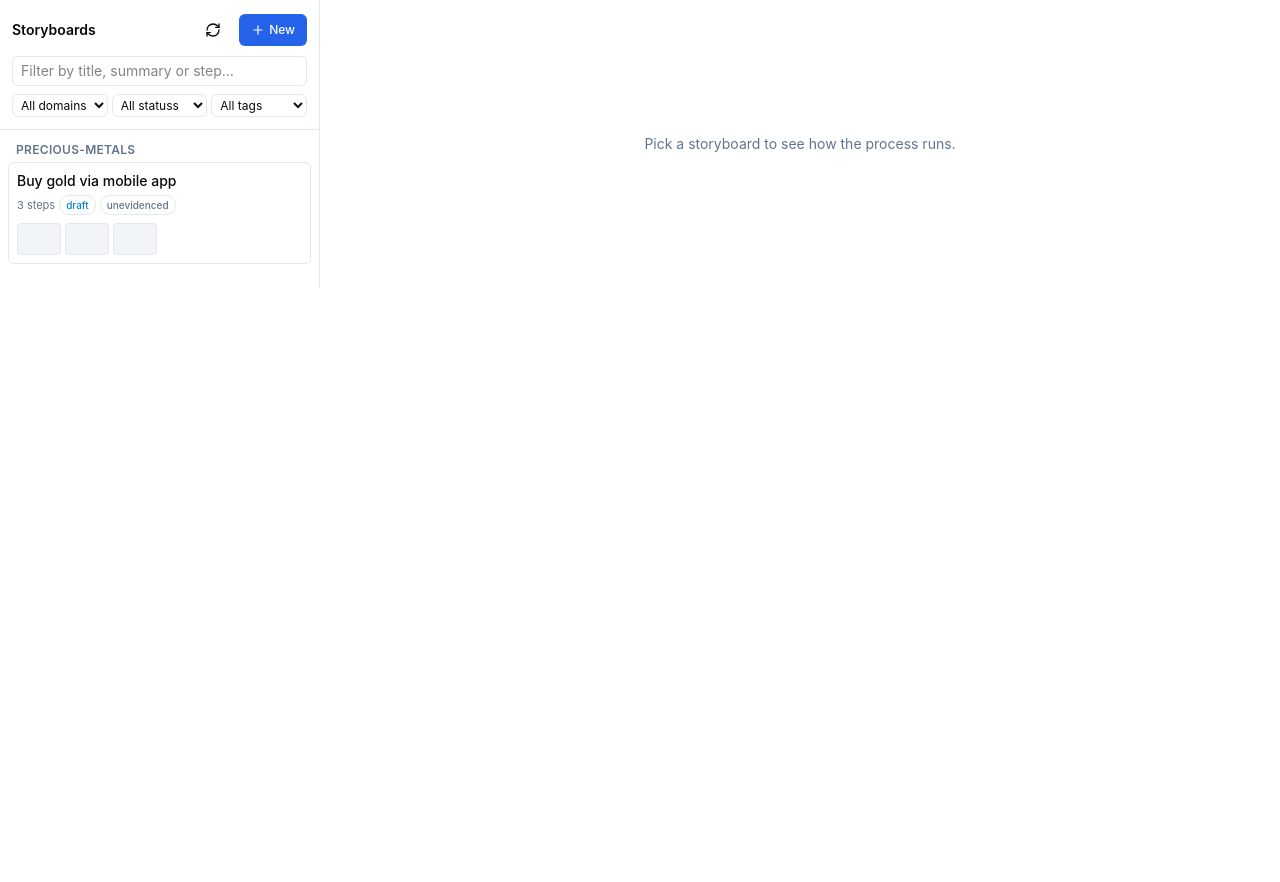
Step editor › on a stale revision, Overwrite resends the same patch with the latest revision
Click the button "Buy gold via mobile app 3 steps draft unevidenced" at (160, 213), box left=8, top=162, right=311, bottom=264
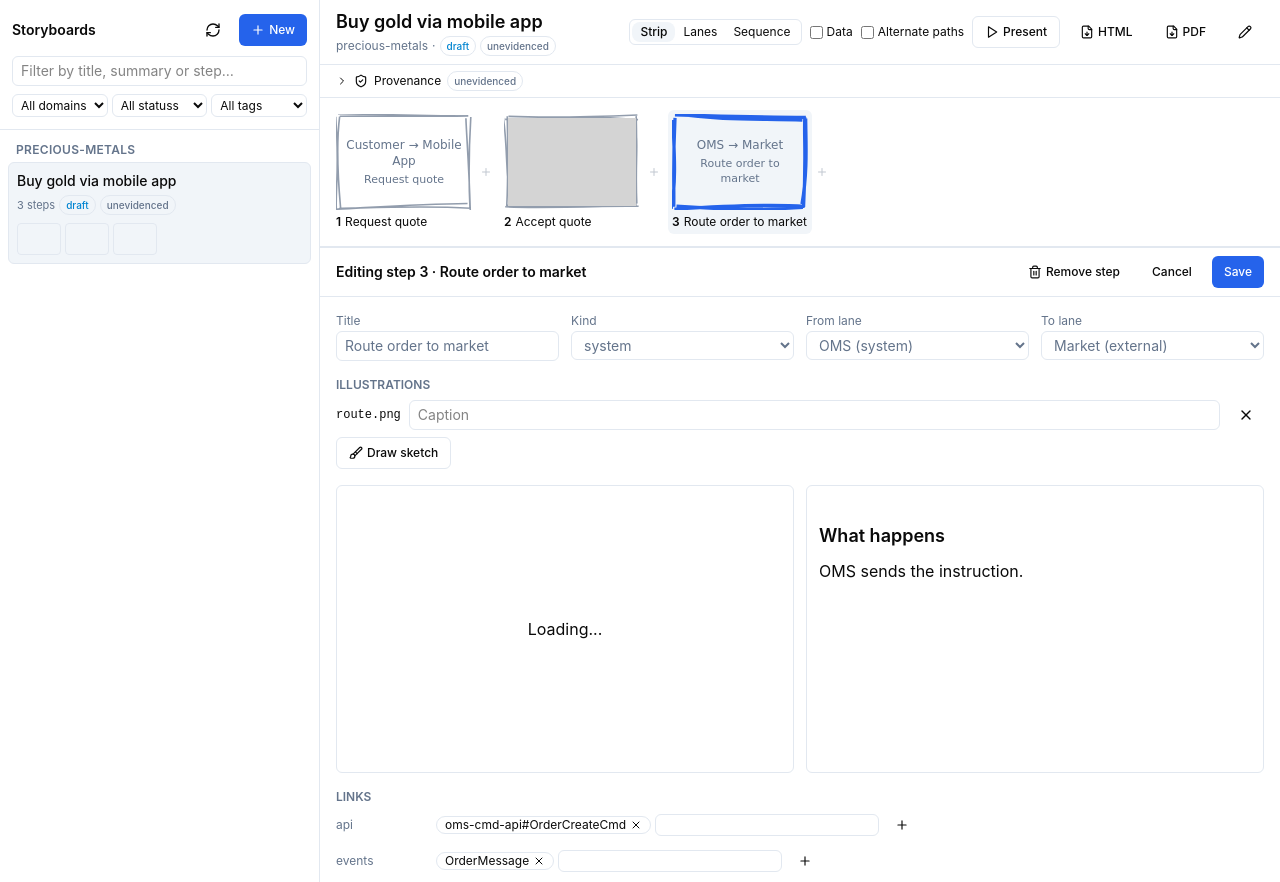
Result: the heading "Buy gold via mobile app" is shown at left=336, top=8, right=556, bottom=36
Replace the text in the field labelled "Title" with "Mine" at (448, 346), box left=336, top=331, right=559, bottom=361
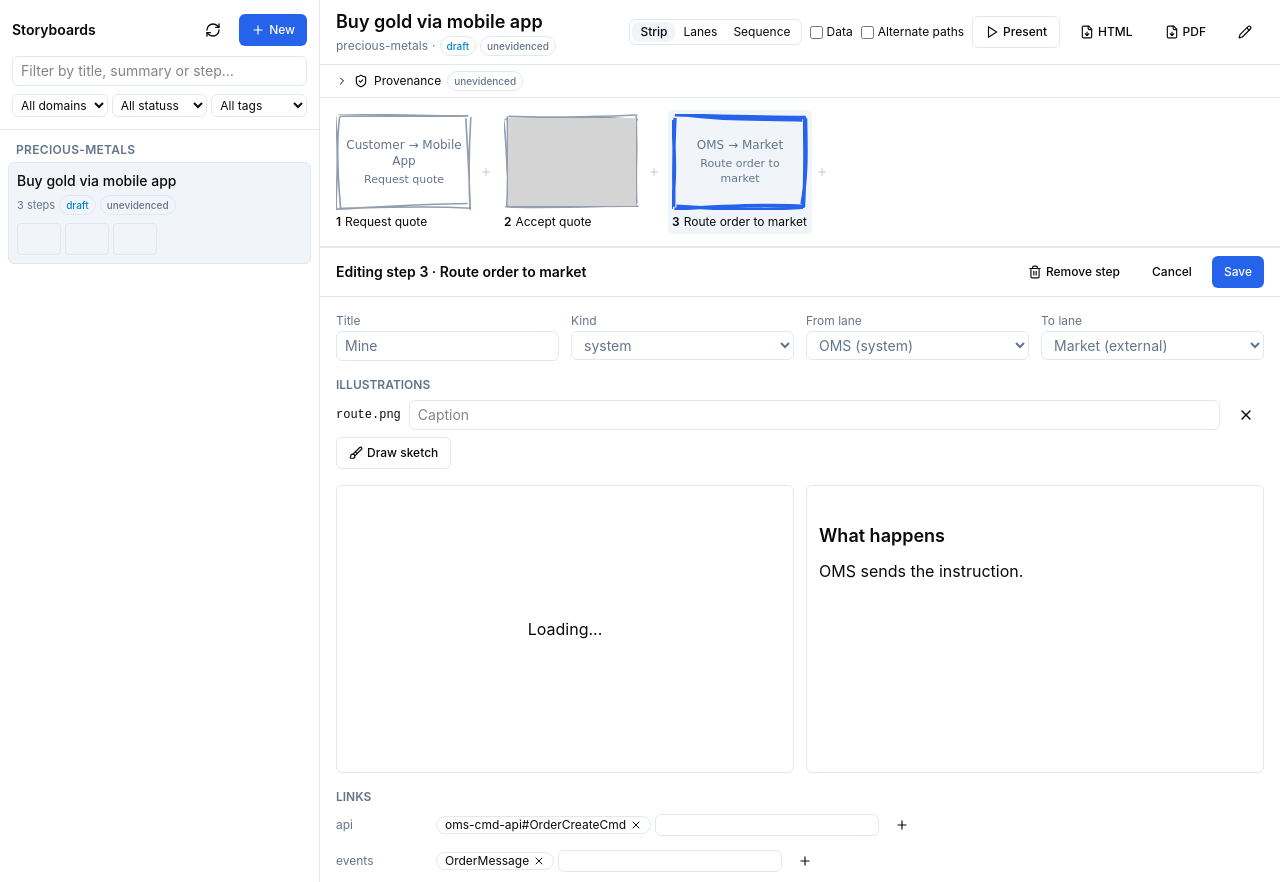
Click the button "Save" at (1238, 272), box left=1212, top=256, right=1264, bottom=288
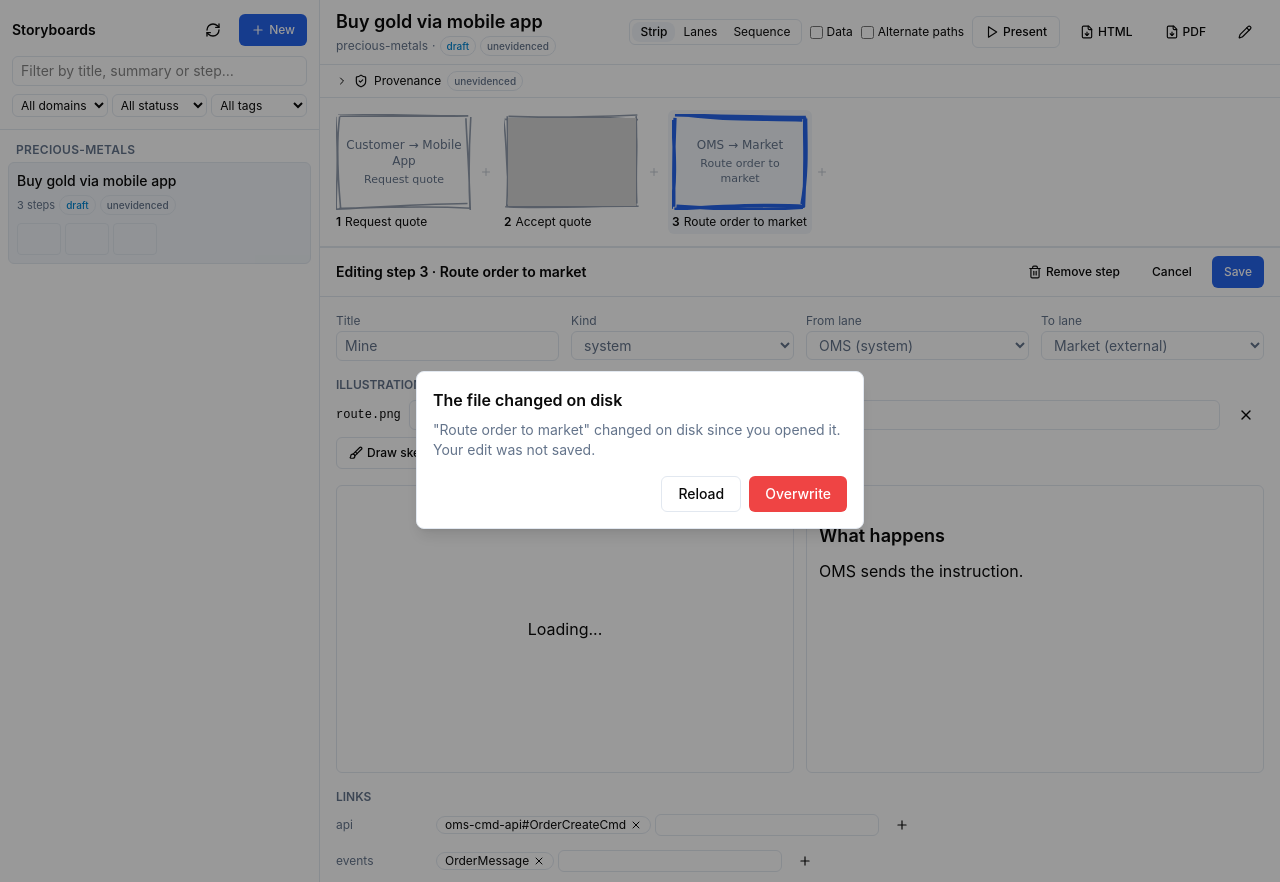
Result: the text "since you opened it" is shown at left=433, top=421, right=841, bottom=438
Click the button "Overwrite" at (798, 494), box left=749, top=476, right=847, bottom=512
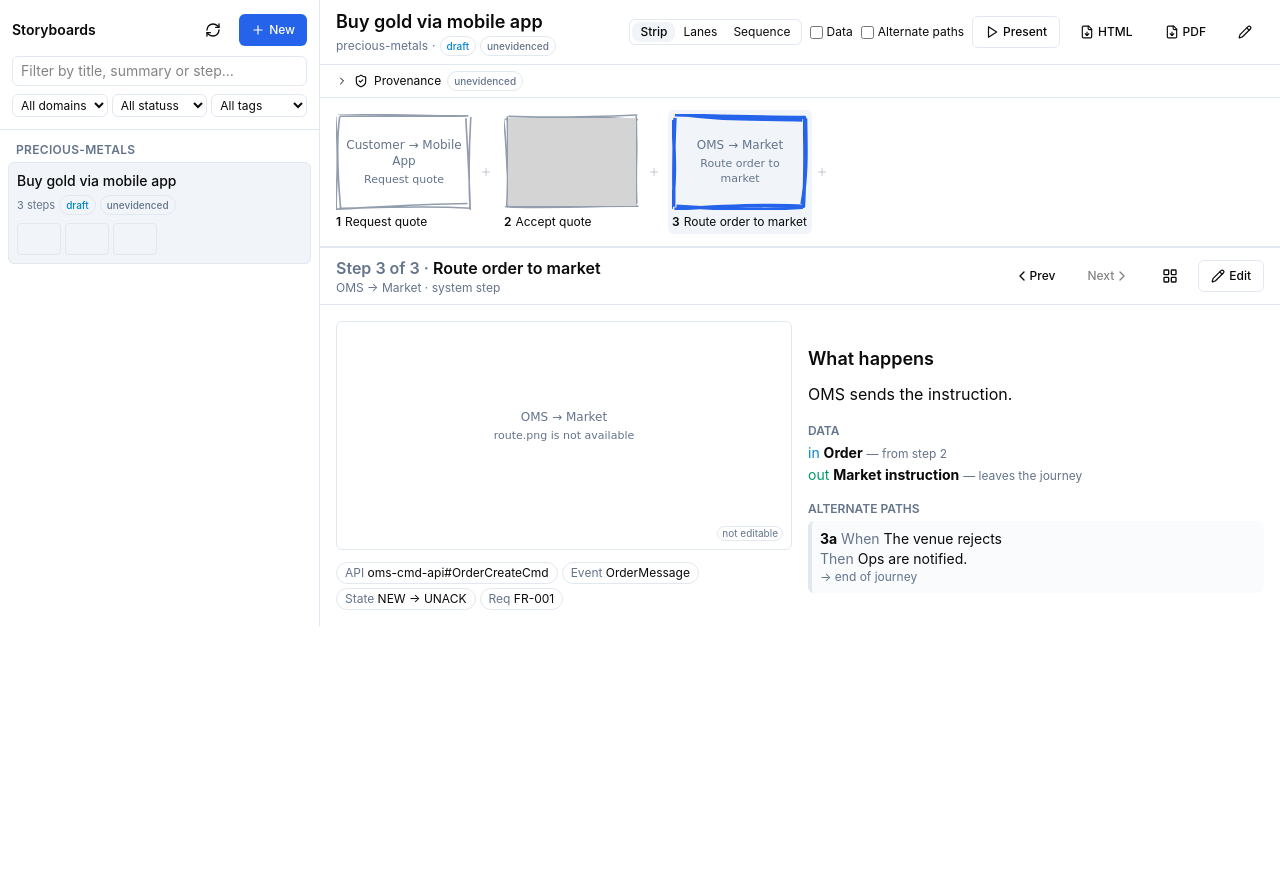
Result: the dialog is gone
